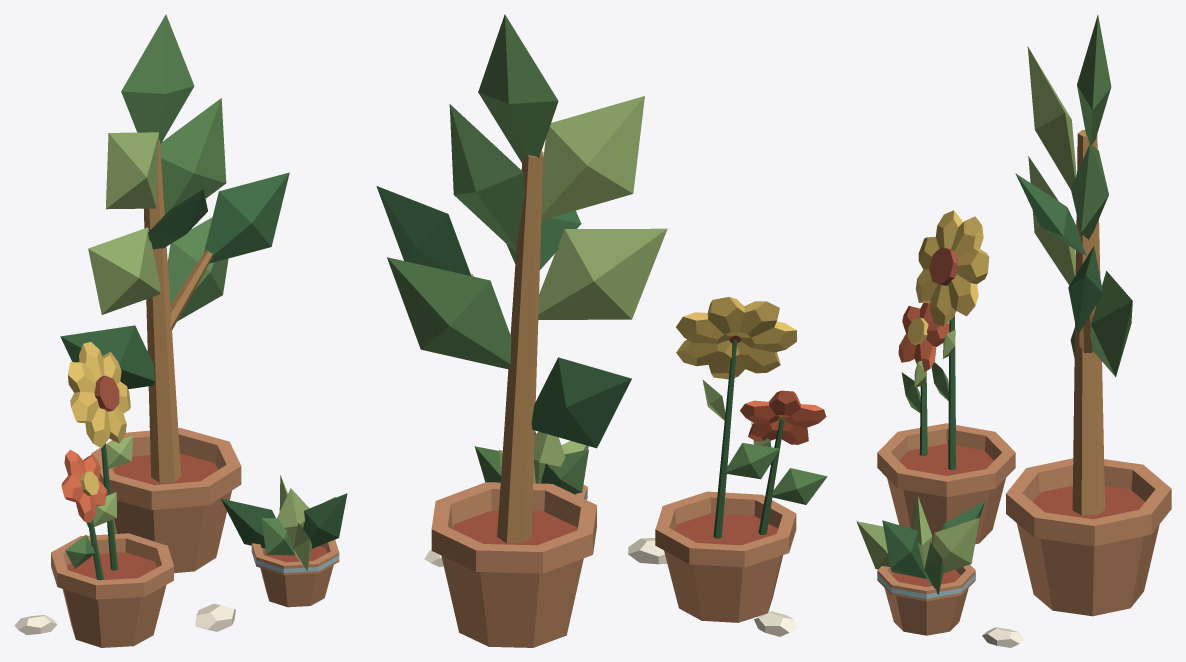
File: right.glb
3 views of the same model, side by side, from view 1: azimuth 30°, elevation 25°; view 2: azimuth 150°, elevation 25°; view 3: azimuth 270°, elevation 25° (orthographic). The views are drawn at different scales.
Parts seen in each view (by area): view 1: Pointed garden leaf (×11), Tapered pot and thick rim (×3), Static room details (×7), Right garden shrub, Right sunflower planter, Right small leaf planter, Flower head, Sunflower; view 2: Pointed garden leaf (×10), Tapered pot and thick rim (×2), Static room details (×6), Right garden shrub, Right sunflower planter, Sunflower, Tomato flower; view 3: Tapered pot and thick rim (×3), Static room details (×7), Pointed garden leaf (×7), Right sunflower planter, Right garden shrub, Right small leaf planter, Sunflower, Flower head, Tomato flower.
Boxes of the visible parts, x1=… form: Pointed garden leaf (×11): x1=60, y1=14, x2=289, y2=568; Tapered pot and thick rim (×3): x1=51, y1=428, x2=339, y2=647; Static room details (×7): x1=14, y1=141, x2=347, y2=634; Right garden shrub: x1=113, y1=453, x2=217, y2=485; Right sunflower planter: x1=67, y1=552, x2=156, y2=579; Right small leaf planter: x1=251, y1=546, x2=339, y2=572; Flower head: x1=94, y1=375, x2=119, y2=411; Sunflower: x1=101, y1=443, x2=117, y2=570; Pointed garden leaf (×10): x1=376, y1=14, x2=827, y2=504; Tapered pot and thick rim (×2): x1=431, y1=482, x2=796, y2=647; Static room details (×6): x1=424, y1=151, x2=826, y2=636; Right garden shrub: x1=453, y1=510, x2=577, y2=545; Right sunflower planter: x1=675, y1=513, x2=777, y2=545; Sunflower: x1=713, y1=339, x2=737, y2=538; Tomato flower: x1=758, y1=419, x2=783, y2=534; Tapered pot and thick rim (×3): x1=877, y1=423, x2=1171, y2=635; Static room details (×7): x1=856, y1=130, x2=1105, y2=647; Pointed garden leaf (×7): x1=1015, y1=15, x2=1132, y2=376; Right sunflower planter: x1=899, y1=444, x2=993, y2=475; Right garden shrub: x1=1033, y1=485, x2=1144, y2=519; Right small leaf planter: x1=877, y1=569, x2=975, y2=598; Sunflower: x1=948, y1=315, x2=956, y2=469; Flower head: x1=929, y1=247, x2=958, y2=285; Tomato flower: x1=919, y1=376, x2=927, y2=455.
Size of the model in its own units: 2.82 by 4.51 by 2.22.
